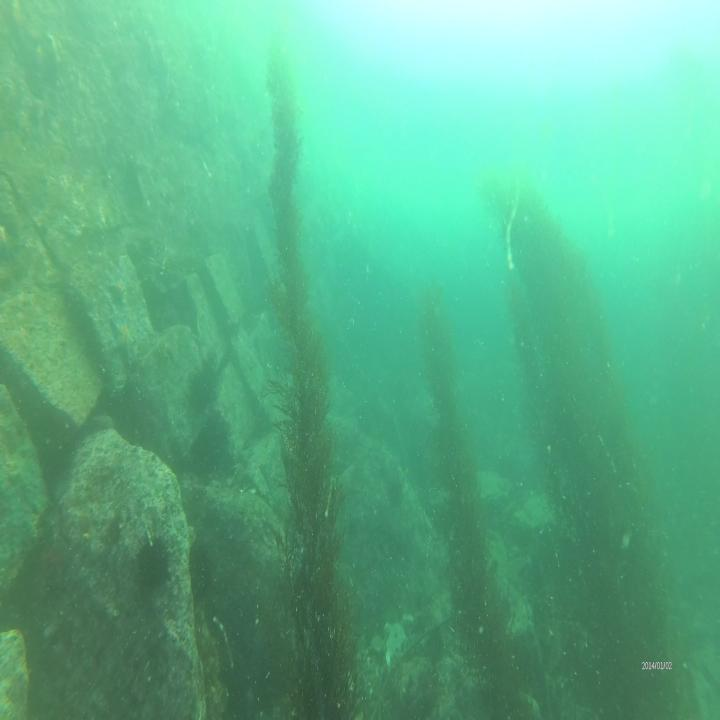echinus: (192, 417, 229, 474), (187, 358, 218, 415), (136, 536, 168, 588)
